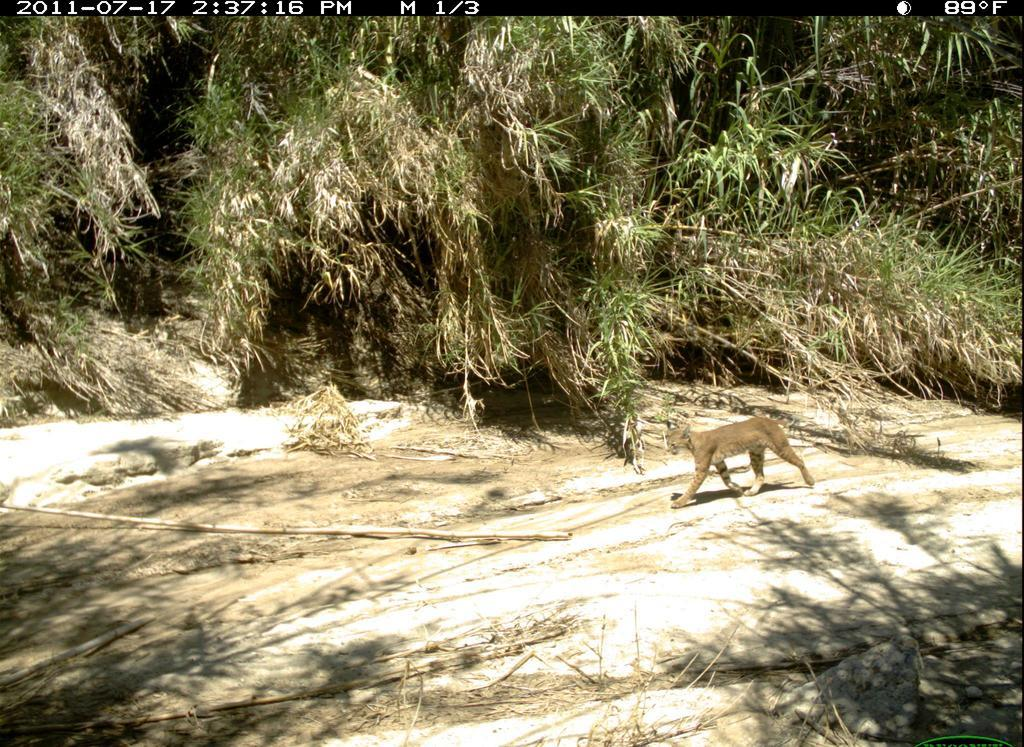bobcat: (642, 385, 829, 524)
